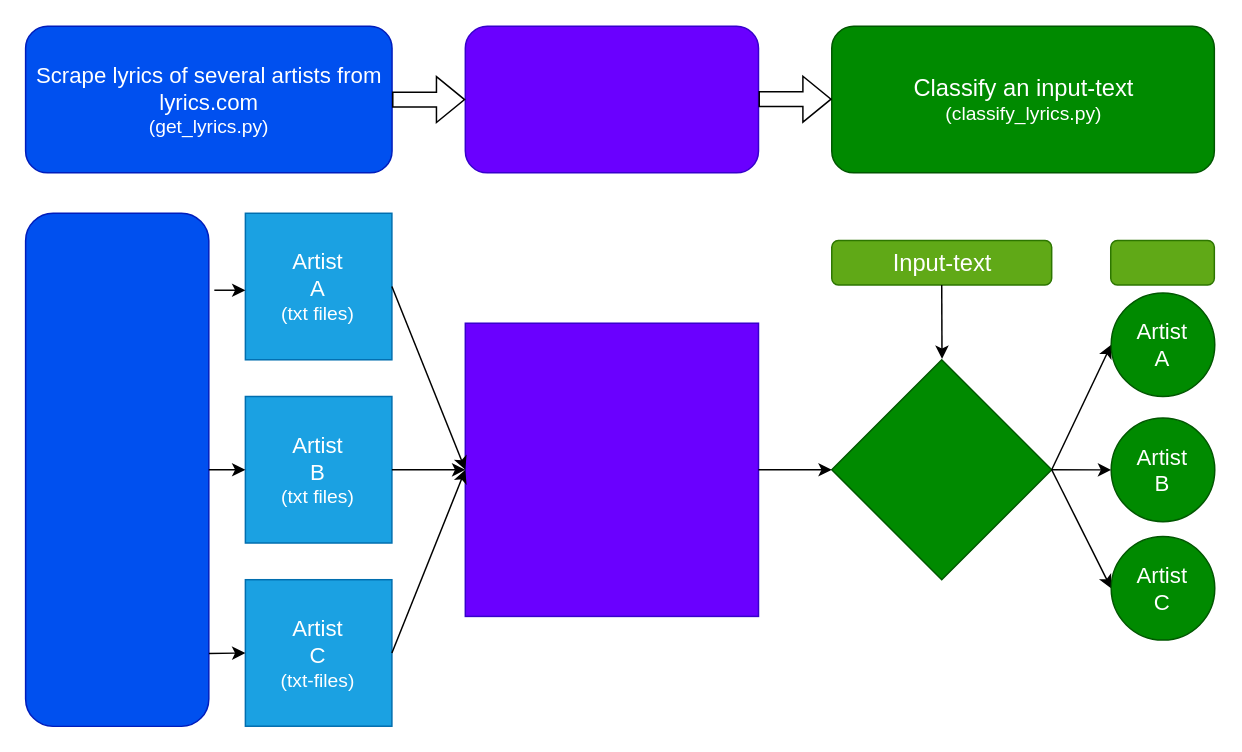
Image size: 1242x752. Some labels were removed from this diagram. Here are the shapes that lost their labels. From the top down, the centre of each, then its label:
point 611,99: Combine all lyrics to one dataframe (add_to_dataframe.py)
point 1161,262: Probabilities
point 116,469: Lyrics.com
point 611,469: Dataframe (lyrics_dataframe.csv)
point 941,469: Naive Bayes classifier
